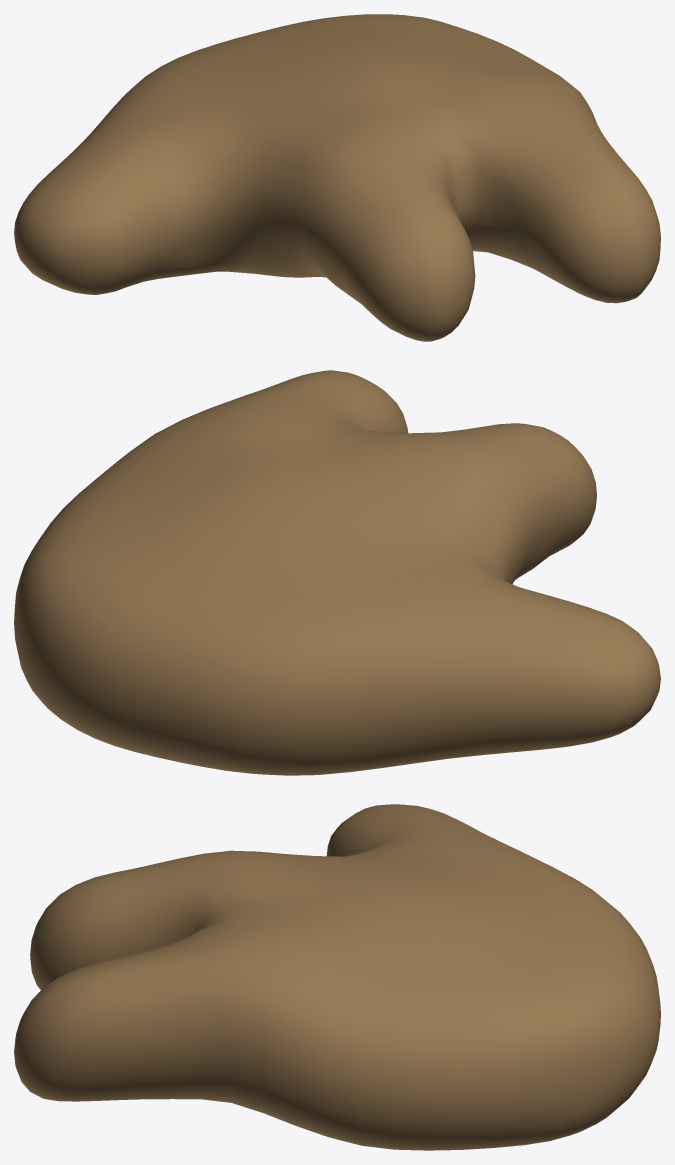
The model's file is left-hand.fbx.
3 views of the same model, one above another, from view 1: azimuth 30°, elevation 25°; view 2: azimuth 150°, elevation 25°; view 3: azimuth 270°, elevation 25° (orthographic). The views are drawn at different scales.
Parts seen in each view (by area): view 1: Left Hand; view 2: Left Hand; view 3: Left Hand.
Part boxes in pixels (x1,y1,x2,y2): Left Hand: (14,14,660,341); Left Hand: (14,370,660,775); Left Hand: (14,804,660,1150).
Size of the model in its own units: 15.99 by 5.25 by 15.84.
